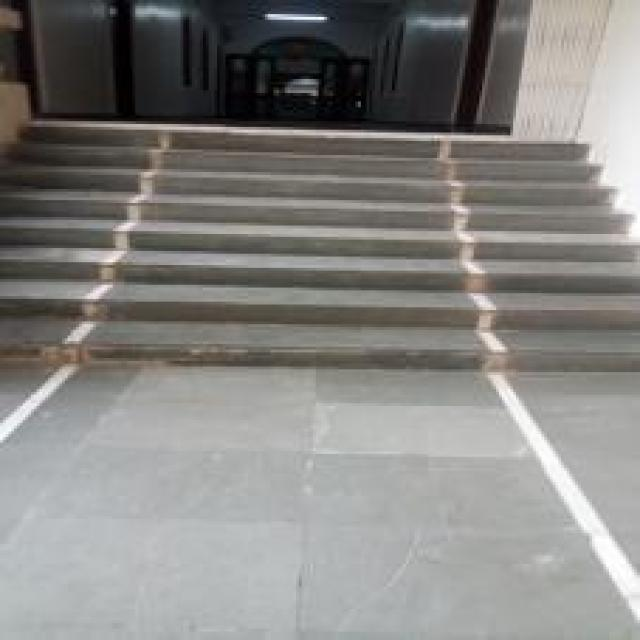upstair: (111, 108, 520, 387)
